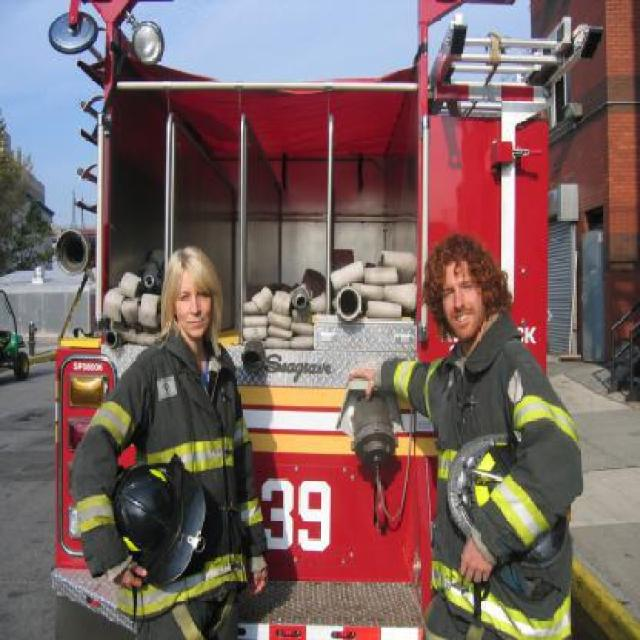Person: (70, 242, 268, 640), (382, 225, 570, 630)
